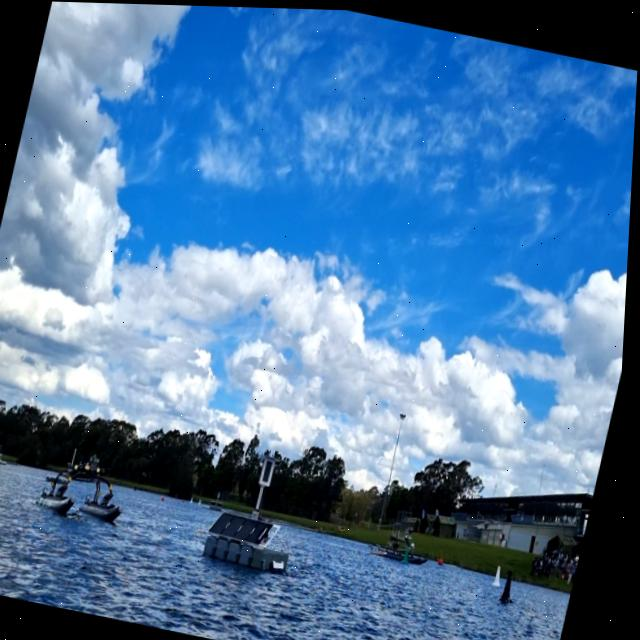led: (265, 456, 279, 483)
